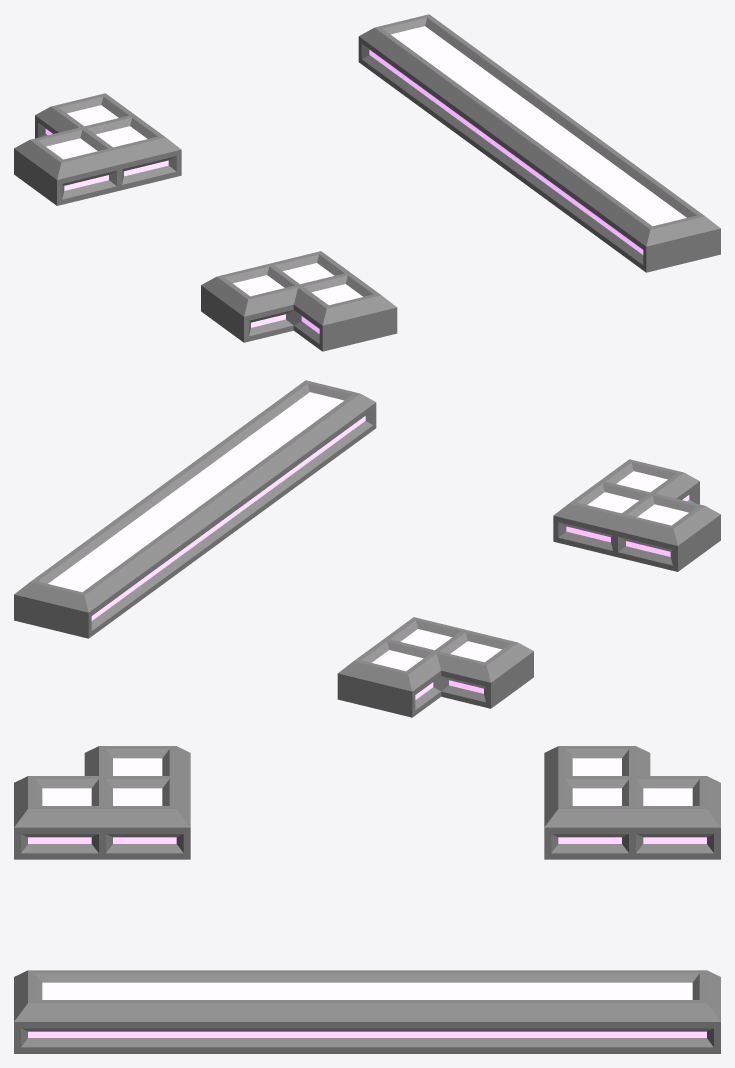
File: RailTCross.FBX
3 views of the same model, one above another, from view 1: azimuth 30°, elevation 25°; view 2: azimuth 150°, elevation 25°; view 3: azimuth 270°, elevation 25° (orthographic). The views are drawn at different scales.
Parts seen in each view (by area): view 1: RailTCross_high; view 2: RailTCross_high; view 3: RailTCross_high.
Boxes of the visible parts, x1,y1,x2,y2 form: RailTCross_high: (14, 14, 720, 351); RailTCross_high: (14, 380, 720, 717); RailTCross_high: (14, 746, 720, 1053).
Size of the model in its own units: 90 by 100 by 7.
